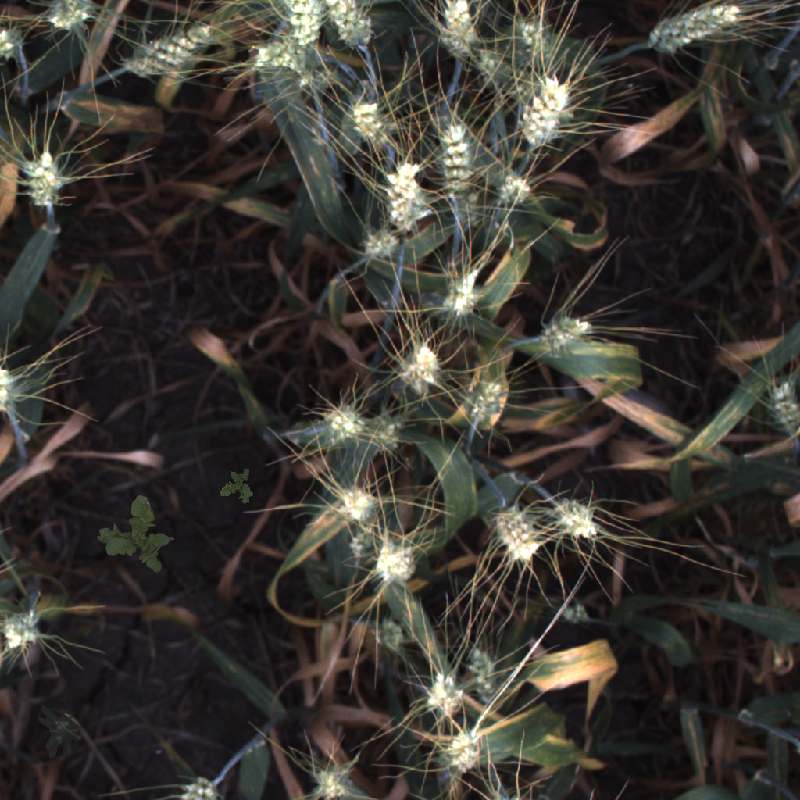spikelet: (643, 1, 739, 61), (132, 16, 222, 74), (514, 70, 571, 149), (380, 152, 432, 235), (323, 1, 382, 57), (244, 38, 313, 82), (489, 503, 539, 562), (532, 312, 599, 355), (425, 652, 471, 714), (21, 152, 71, 208), (436, 120, 472, 196), (35, 1, 95, 42), (462, 646, 506, 700), (350, 225, 409, 264), (506, 10, 556, 56), (281, 1, 328, 48), (437, 727, 482, 775), (436, 1, 477, 53), (369, 535, 416, 580), (439, 265, 481, 314), (764, 378, 800, 434), (342, 518, 385, 564), (473, 43, 515, 90), (402, 345, 439, 395), (550, 500, 595, 541), (296, 57, 342, 96), (492, 168, 535, 209), (466, 378, 506, 422), (1, 609, 41, 651), (337, 482, 375, 526), (348, 99, 383, 142), (1, 20, 29, 69), (310, 767, 353, 798), (175, 772, 225, 798), (323, 404, 357, 439), (458, 185, 487, 222), (370, 422, 402, 455), (374, 621, 403, 656), (1, 366, 19, 414)
weed: (97, 495, 174, 573), (21, 699, 89, 766), (214, 462, 264, 506)
